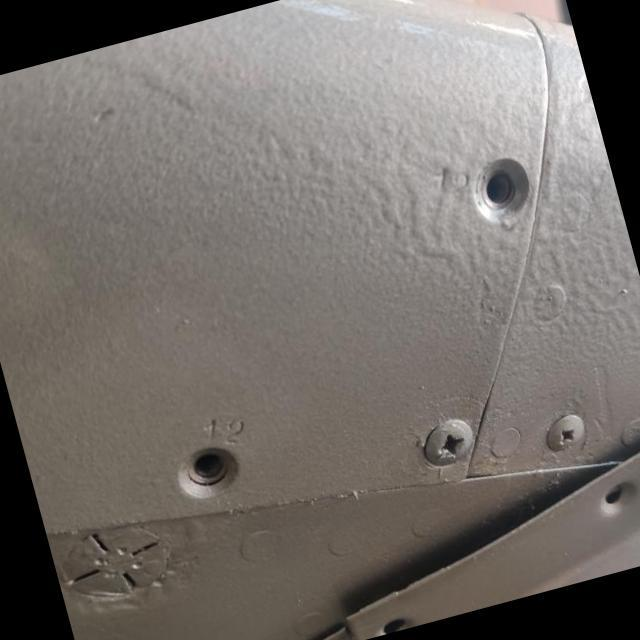Fastener Damage: (104, 357, 326, 575), (408, 87, 602, 277)
